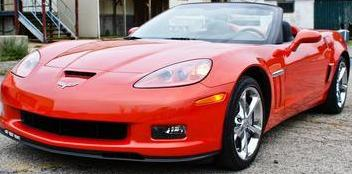front_view: (0, 41, 229, 164)
headlight: (129, 56, 225, 92)
